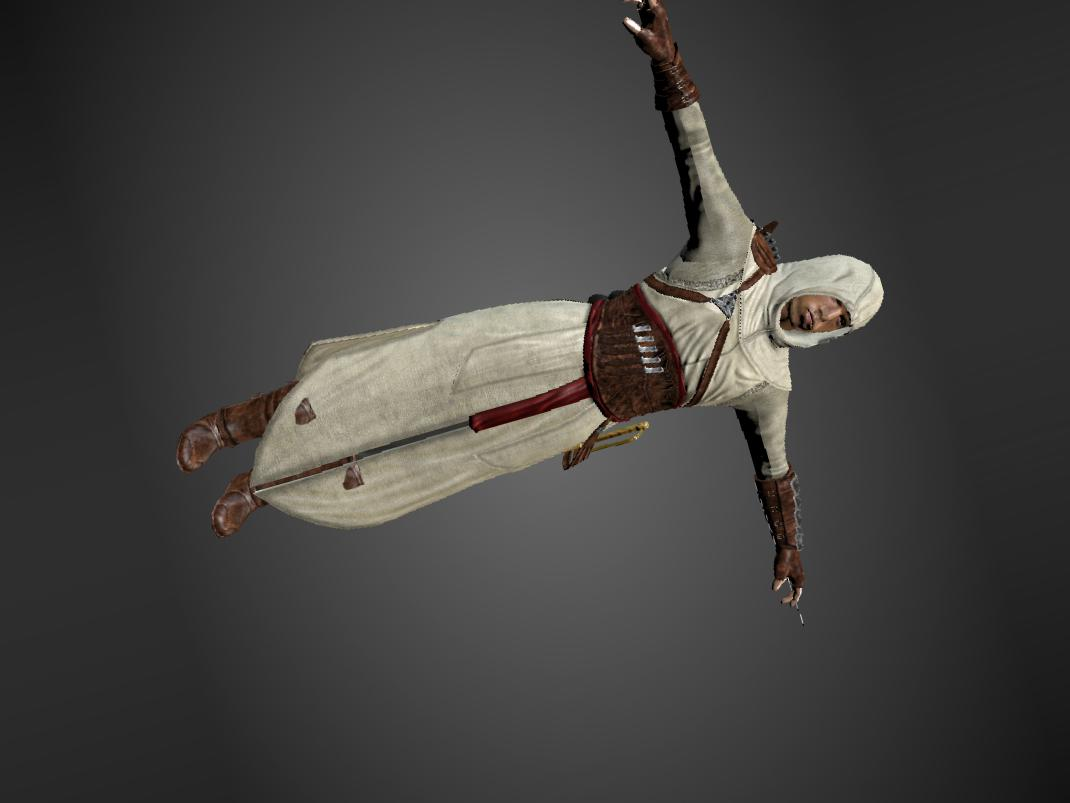clip: (338, 462, 369, 496), (293, 396, 319, 430)
